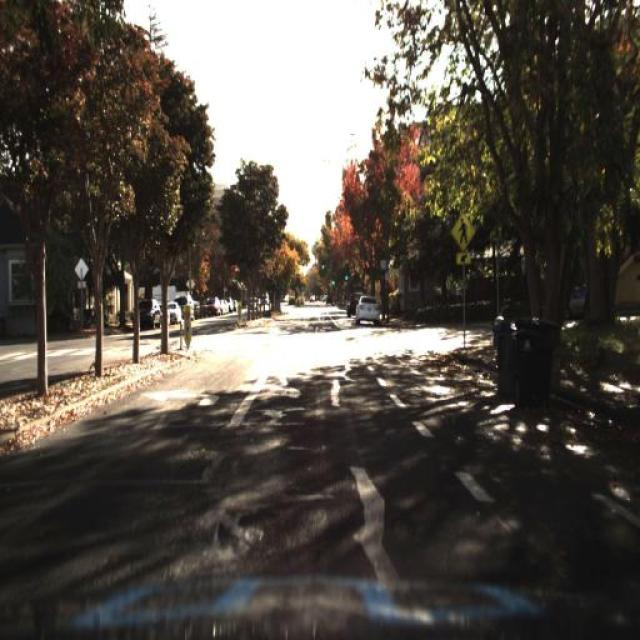car: (566, 270, 588, 322), (560, 282, 590, 318), (131, 297, 160, 329), (359, 294, 385, 322), (167, 298, 185, 322), (346, 294, 355, 318)
trafficLight-GreenLeft: (317, 257, 328, 282), (328, 266, 338, 290), (342, 264, 352, 284), (341, 272, 352, 290), (328, 278, 336, 292)
